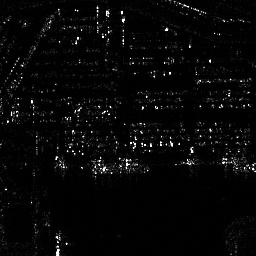ship: (87, 157, 149, 175)
